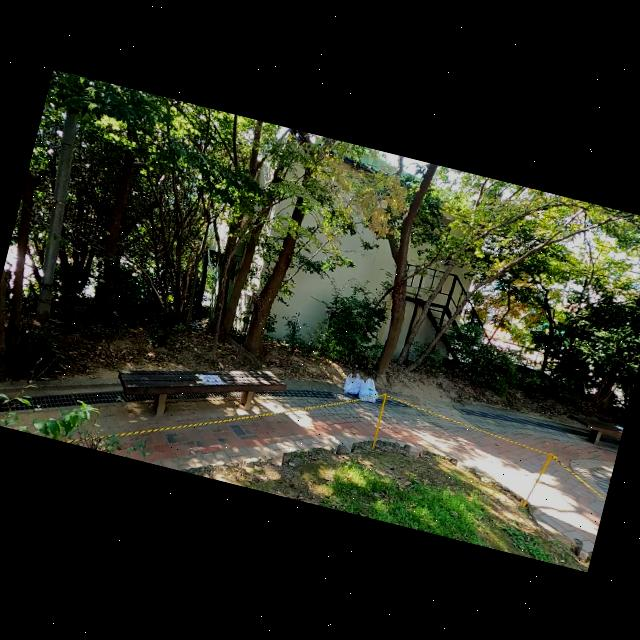trash: (356, 374, 380, 403), (341, 369, 365, 396)
